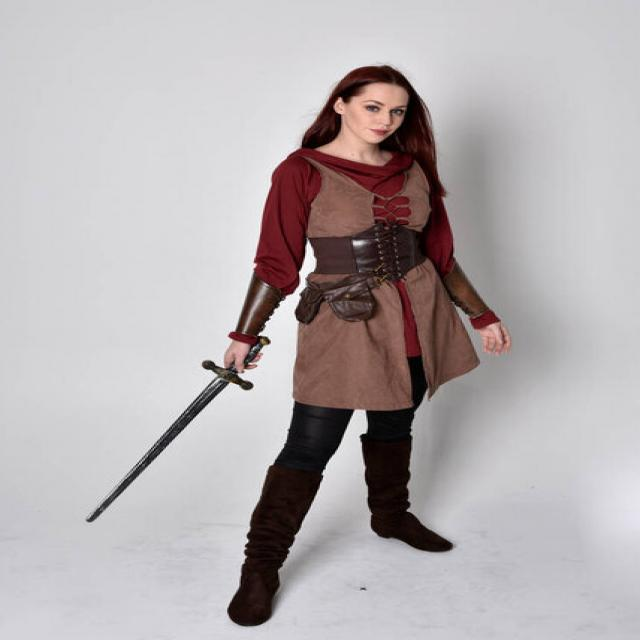long sword: (2, 334, 263, 526)
